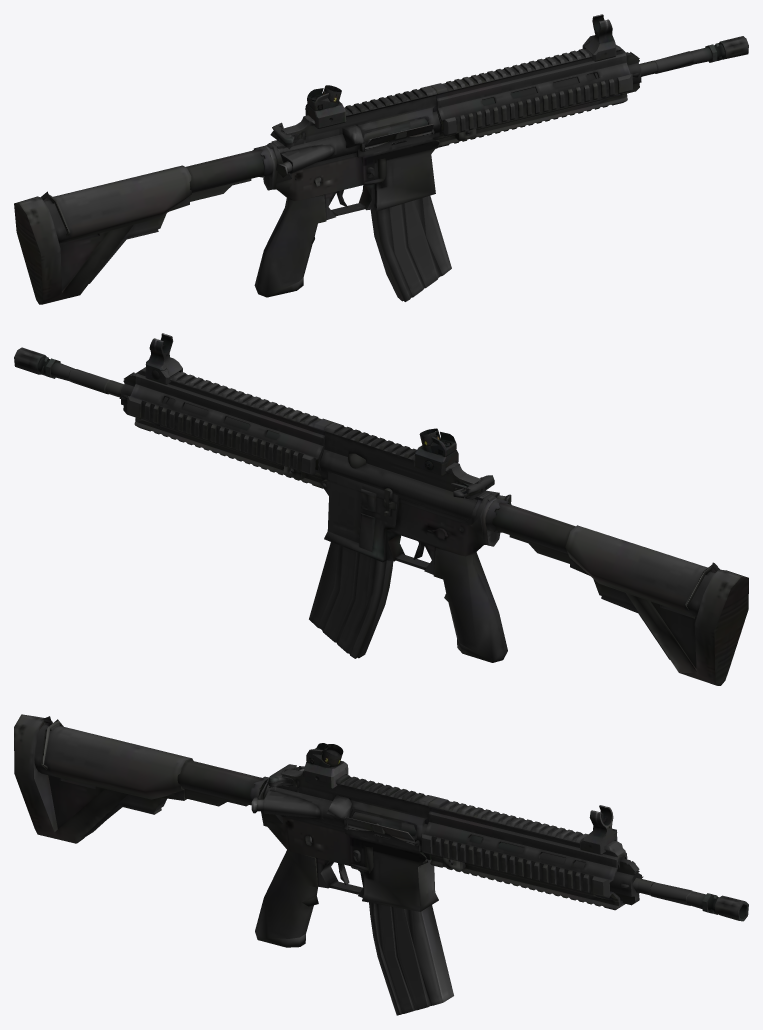
The picture shows the model from 3 angles, top to bottom: view 1: azimuth 30°, elevation 25°; view 2: azimuth 150°, elevation 25°; view 3: azimuth 330°, elevation 25°; orthographic projection. The views are drawn at different scales.
Parts seen in each view (by area): view 1: m4; view 2: m4; view 3: m4.
Boxes of the visible parts, bbox=[...] form: m4: bbox=[14, 14, 748, 304]; m4: bbox=[14, 333, 748, 685]; m4: bbox=[14, 714, 748, 1015].
Bounding box in the file's own units: 0.9905 × 0.3271 × 0.1258.
Materials: 2 (2 with a texture image).
